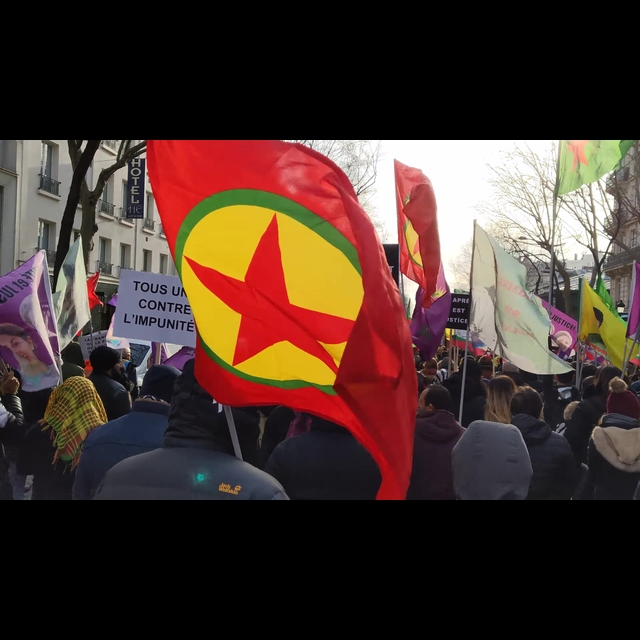PKK: (168, 182, 380, 397)
